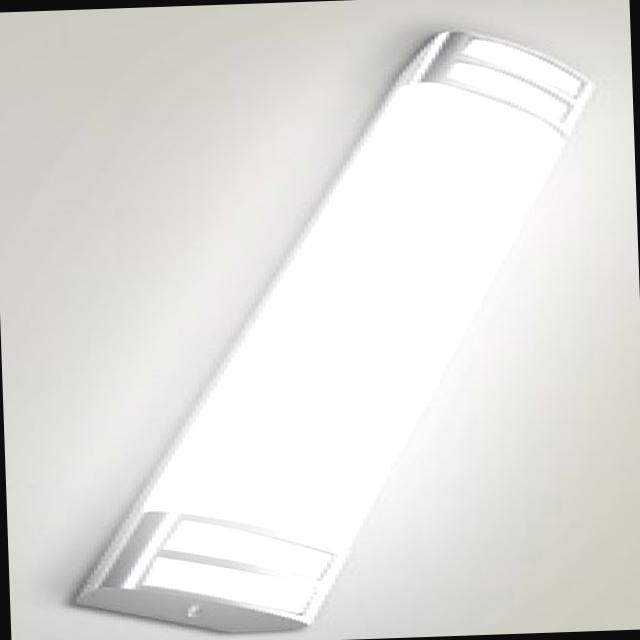light: (70, 27, 594, 634)
